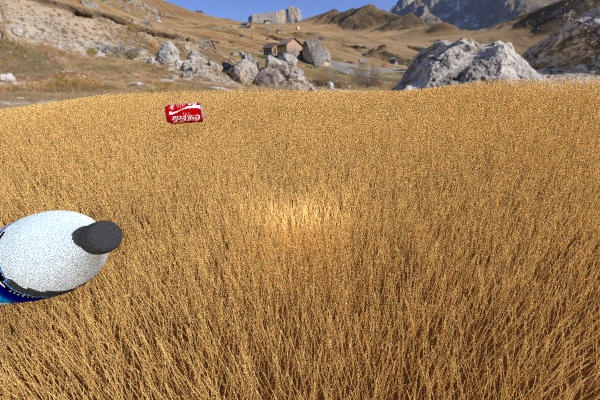Plastic Bottle: (0, 210, 122, 307), (0, 358, 98, 400), (163, 102, 204, 124)
